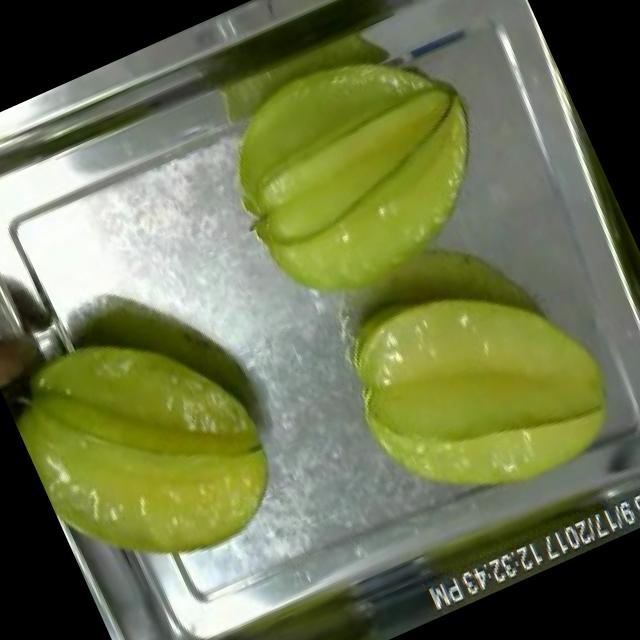fruit: (187, 2, 529, 332), (0, 276, 311, 611), (314, 229, 640, 546)
